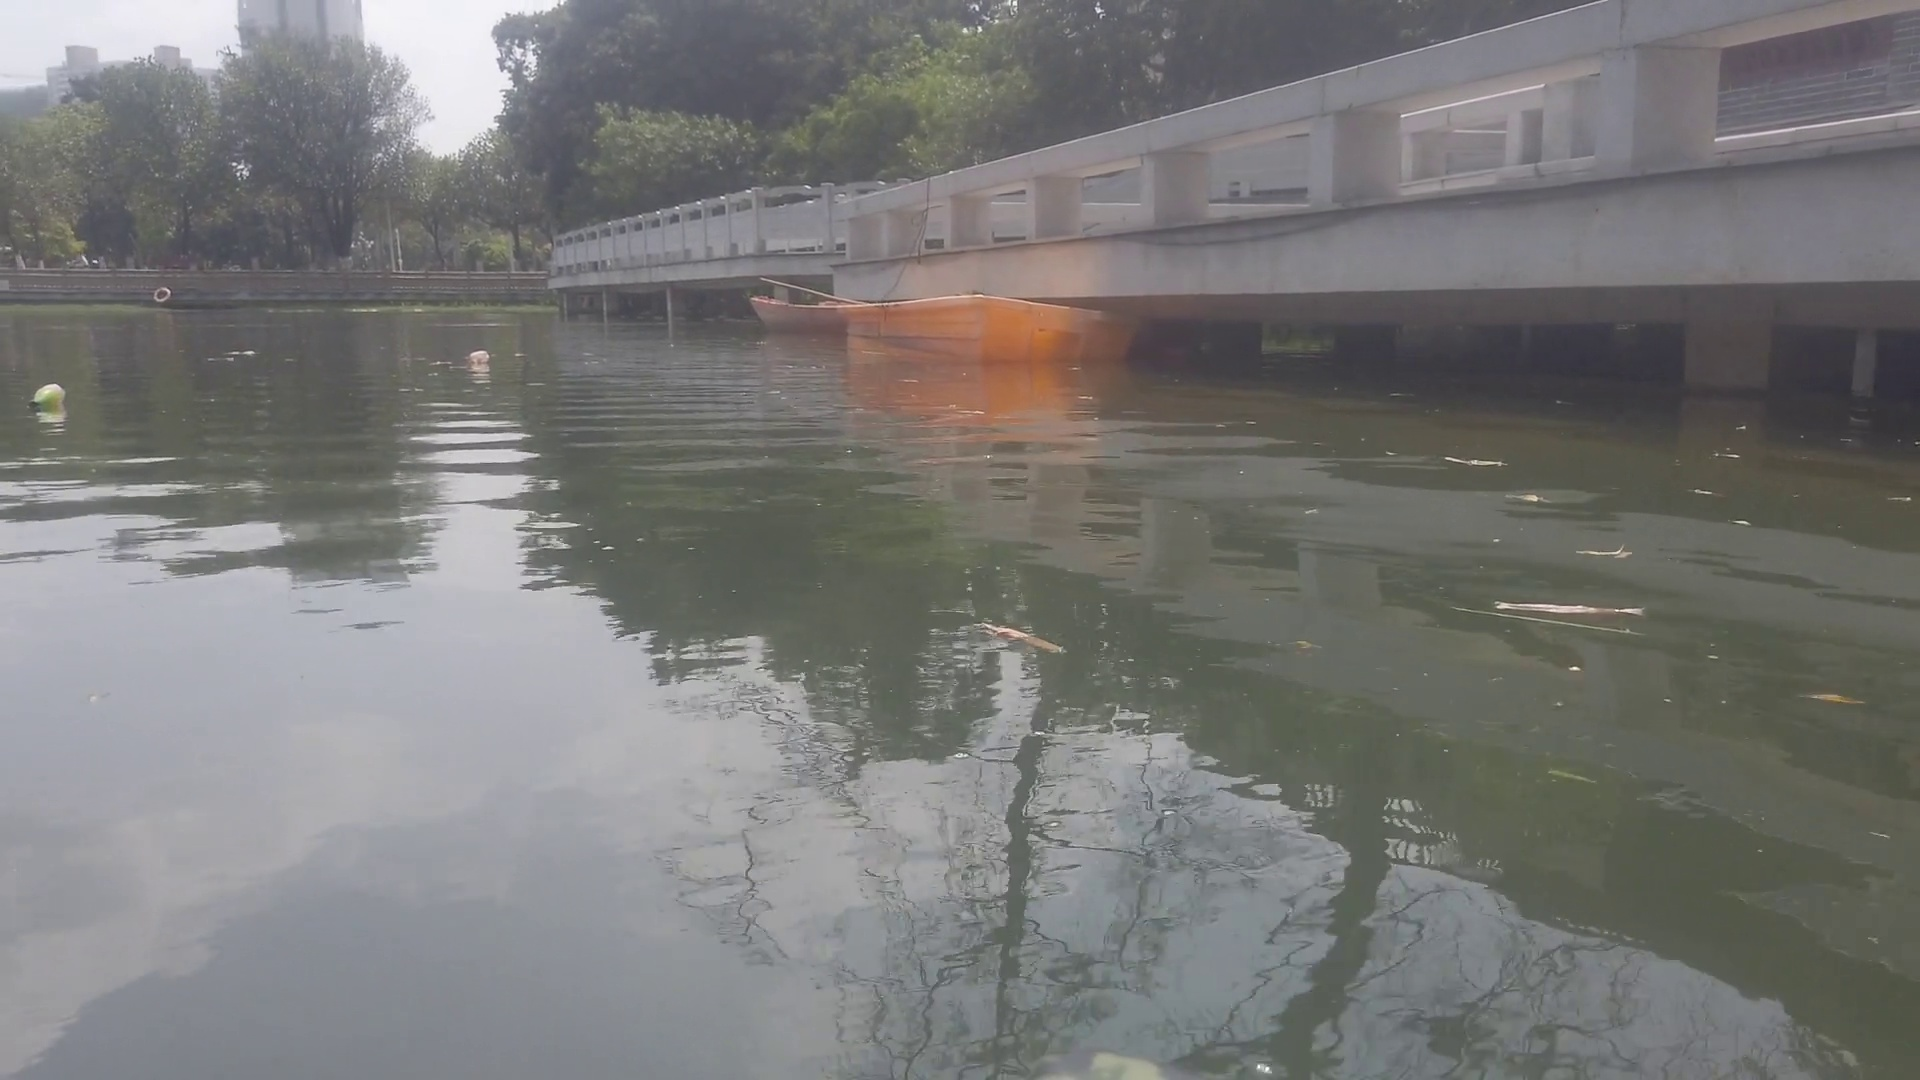bottle: (26, 376, 70, 415), (469, 349, 491, 367)
